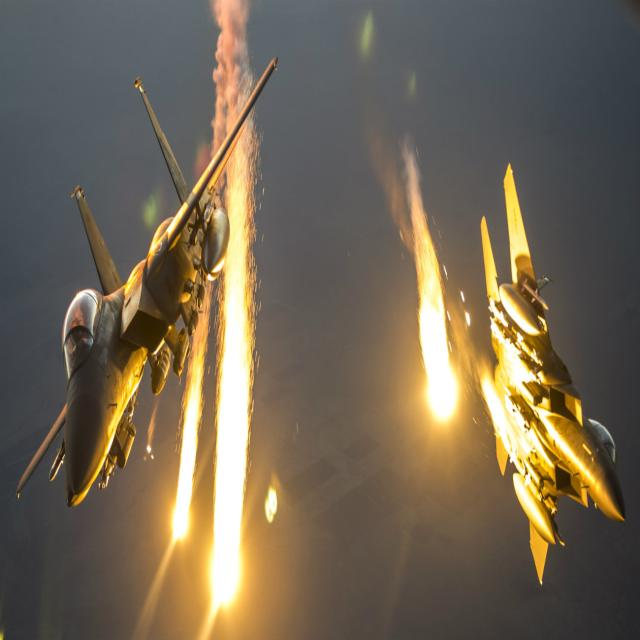MIL_Plane: (12, 52, 280, 510), (480, 157, 626, 586)
